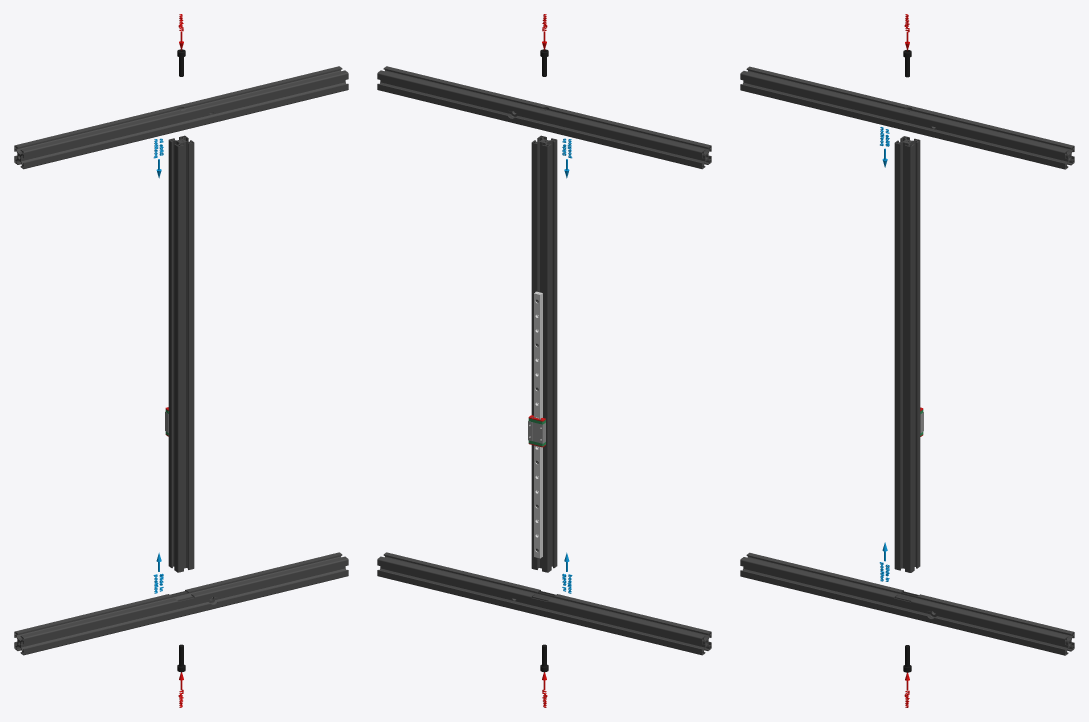
The picture shows the model from 3 angles, left to right: view 1: azimuth 30°, elevation 25°; view 2: azimuth 150°, elevation 25°; view 3: azimuth 330°, elevation 25°; orthographic projection.
Parts seen in each view (by area): view 1: 01_05__XP__Alu_3030_Pillar_Back__V2.0 v25, 01_07__XP__Alu_3030_Beam_4___V1.0 v4, 01_04__XP__Alu_3030_Beam_Back___V1.0 v13; view 2: 01_05__XP__Alu_3030_Pillar_Back__V2.0 v25, 01_07__XP__Alu_3030_Beam_4___V1.0 v4, 01_04__XP__Alu_3030_Beam_Back___V1.0 v13, MGNR12R450HM_FILE_2 v1; view 3: 01_05__XP__Alu_3030_Pillar_Back__V2.0 v25, 01_07__XP__Alu_3030_Beam_4___V1.0 v4, 01_04__XP__Alu_3030_Beam_Back___V1.0 v13.
Boxes of the visible parts, bbox=[...] form: 01_05__XP__Alu_3030_Pillar_Back__V2.0 v25: bbox=[168, 135, 194, 572]; 01_07__XP__Alu_3030_Beam_4___V1.0 v4: bbox=[14, 66, 348, 169]; 01_04__XP__Alu_3030_Beam_Back___V1.0 v13: bbox=[14, 552, 348, 655]; 01_05__XP__Alu_3030_Pillar_Back__V2.0 v25: bbox=[531, 135, 557, 572]; 01_07__XP__Alu_3030_Beam_4___V1.0 v4: bbox=[377, 66, 711, 169]; 01_04__XP__Alu_3030_Beam_Back___V1.0 v13: bbox=[377, 552, 711, 655]; MGNR12R450HM_FILE_2 v1: bbox=[534, 291, 542, 558]; 01_05__XP__Alu_3030_Pillar_Back__V2.0 v25: bbox=[894, 136, 920, 572]; 01_07__XP__Alu_3030_Beam_4___V1.0 v4: bbox=[740, 66, 1074, 169]; 01_04__XP__Alu_3030_Beam_Back___V1.0 v13: bbox=[740, 552, 1074, 655].
Bounding box in the file's own units: 0.58 × 1.18 × 0.043.
